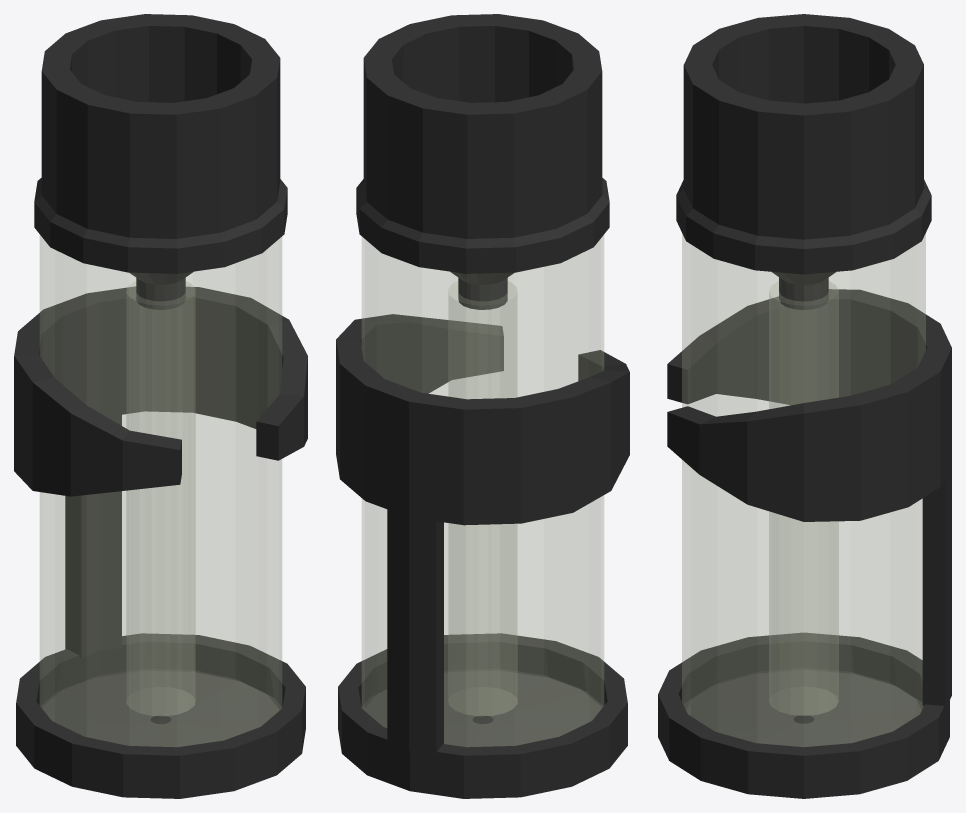
The model's file is RainGauge.fbx.
3 views of the same model, side by side, from view 1: azimuth 30°, elevation 25°; view 2: azimuth 150°, elevation 25°; view 3: azimuth 270°, elevation 25° (orthographic).
Parts seen in each view (by area): view 1: raingaugeTubeOuter, raingaugeCap, raingaugeMount, raingaugeBase, rainguageTubeInner; view 2: raingaugeTubeOuter, raingaugeMount, raingaugeCap, raingaugeBase, rainguageTubeInner; view 3: raingaugeTubeOuter, raingaugeCap, raingaugeMount, raingaugeBase, rainguageTubeInner.
Part boxes in pixels (bbox=[...]): raingaugeTubeOuter: bbox=[40, 235, 281, 746]; raingaugeCap: bbox=[34, 14, 287, 309]; raingaugeMount: bbox=[14, 286, 307, 657]; raingaugeBase: bbox=[16, 633, 305, 798]; rainguageTubeInner: bbox=[126, 281, 195, 715]; raingaugeTubeOuter: bbox=[362, 235, 603, 746]; raingaugeMount: bbox=[336, 314, 629, 754]; raingaugeCap: bbox=[356, 14, 609, 309]; raingaugeBase: bbox=[338, 633, 627, 798]; rainguageTubeInner: bbox=[448, 281, 517, 715]; raingaugeTubeOuter: bbox=[682, 233, 925, 746]; raingaugeCap: bbox=[676, 14, 931, 309]; raingaugeMount: bbox=[667, 289, 951, 707]; raingaugeBase: bbox=[658, 633, 949, 798]; rainguageTubeInner: bbox=[769, 281, 838, 715].
Bounding box in the file's own units: 0.1444 × 0.1454 × 0.3646.
